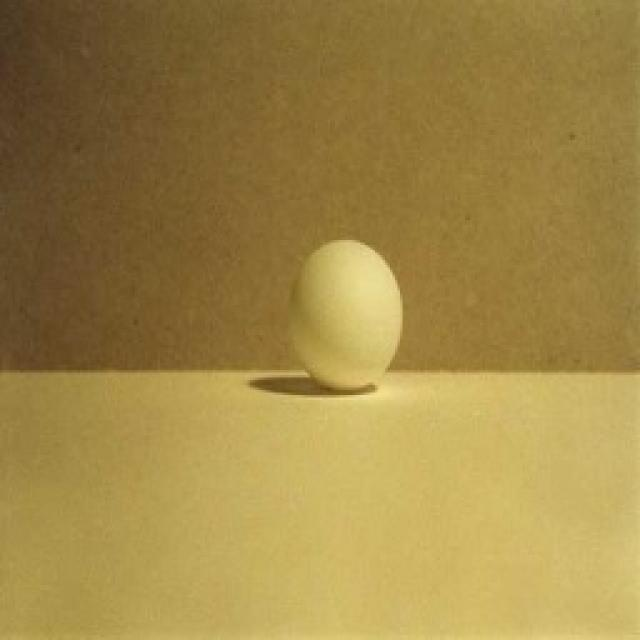ping-pong-ball: (286, 240, 401, 394)
